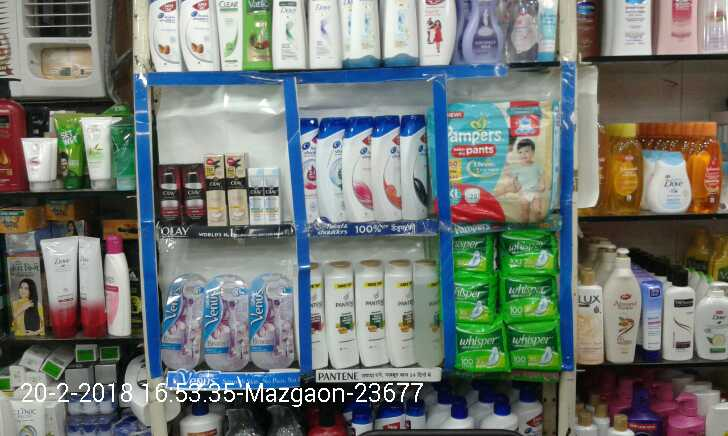venus: (204, 277, 250, 366), (250, 276, 292, 366), (164, 277, 204, 366)
